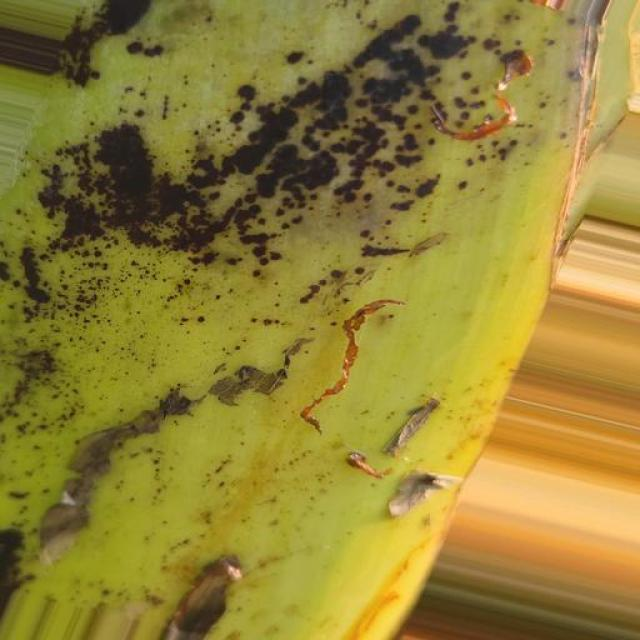Anthracnose: (1, 3, 616, 640)
